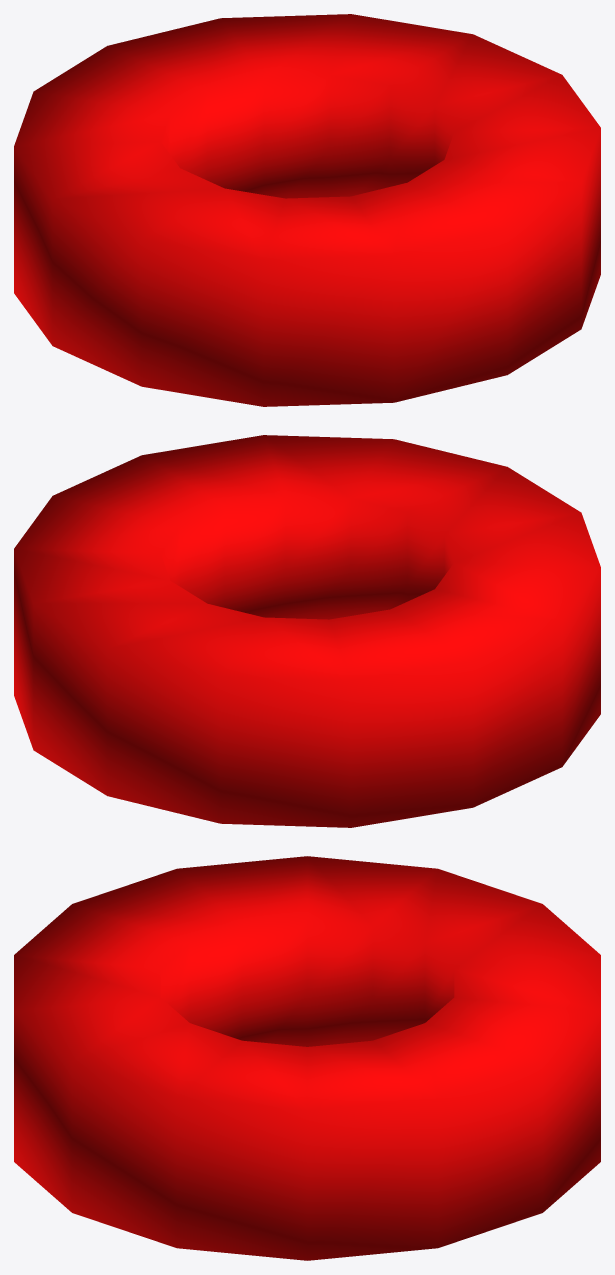
Rendered from Tire_Low.fbx.
3 views of the same model, one above another, from view 1: azimuth 30°, elevation 25°; view 2: azimuth 150°, elevation 25°; view 3: azimuth 270°, elevation 25° (orthographic). The views are drawn at different scales.
Visible parts, largest first — view 1: Tire_Low; view 2: Tire_Low; view 3: Tire_Low.
Part boxes in pixels (bbox=[...]): Tire_Low: bbox=[14, 14, 600, 406]; Tire_Low: bbox=[14, 435, 600, 827]; Tire_Low: bbox=[14, 856, 600, 1260].
Bounding box in the file's own units: 139 × 38.34 × 136.
